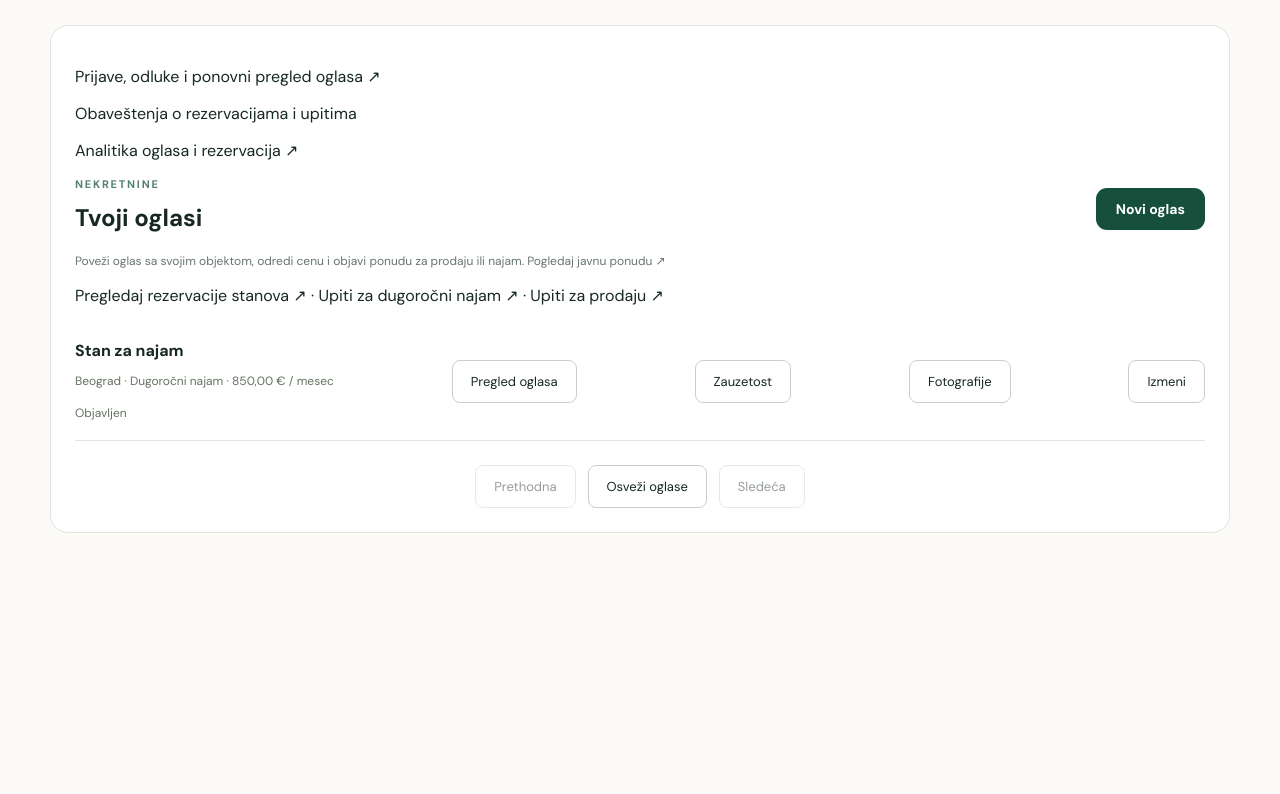
it: opens photo management without submitting the form and explains first-save uploads
Step 1. Click the button with aria-label "Izmeni: Stan za najam" → (1167, 381), box [1128,360,1205,402]
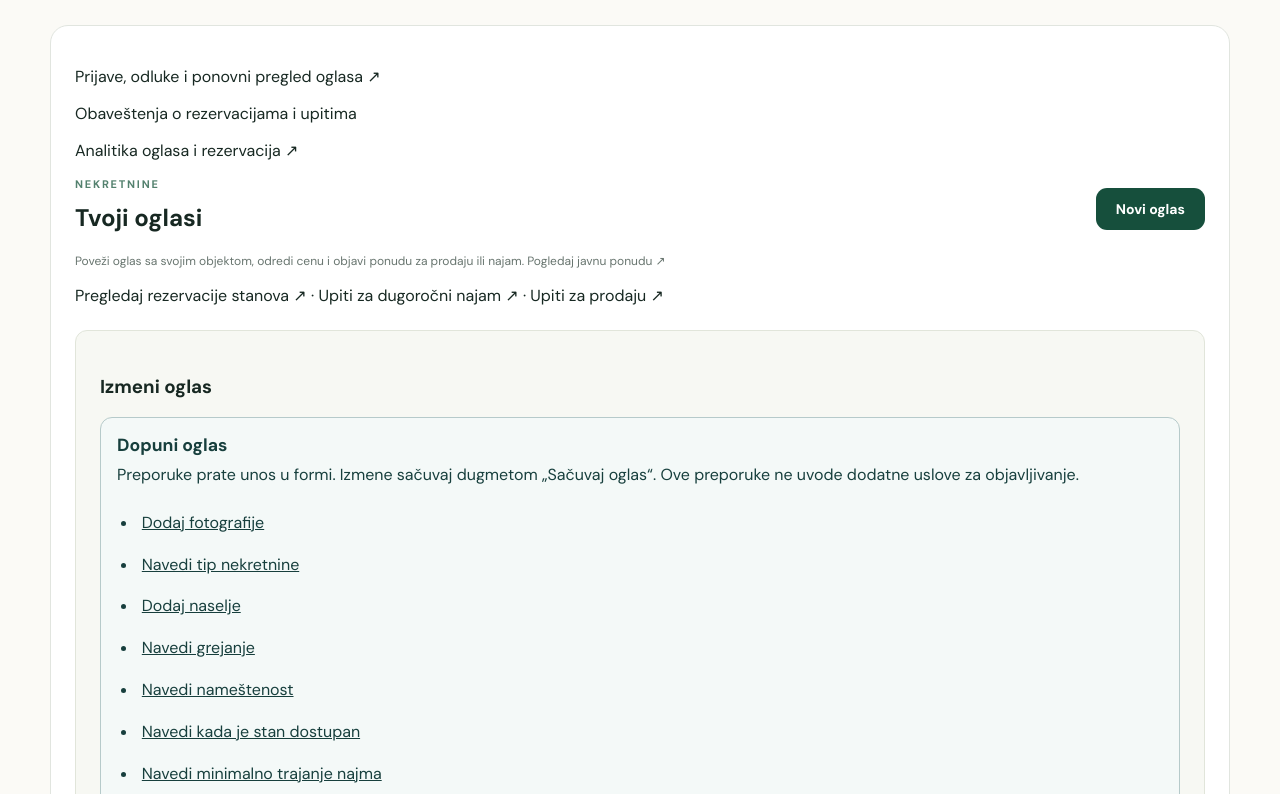
Step 2. Click the button "Dodaj fotografije" → (203, 522), box [138,501,268,543]
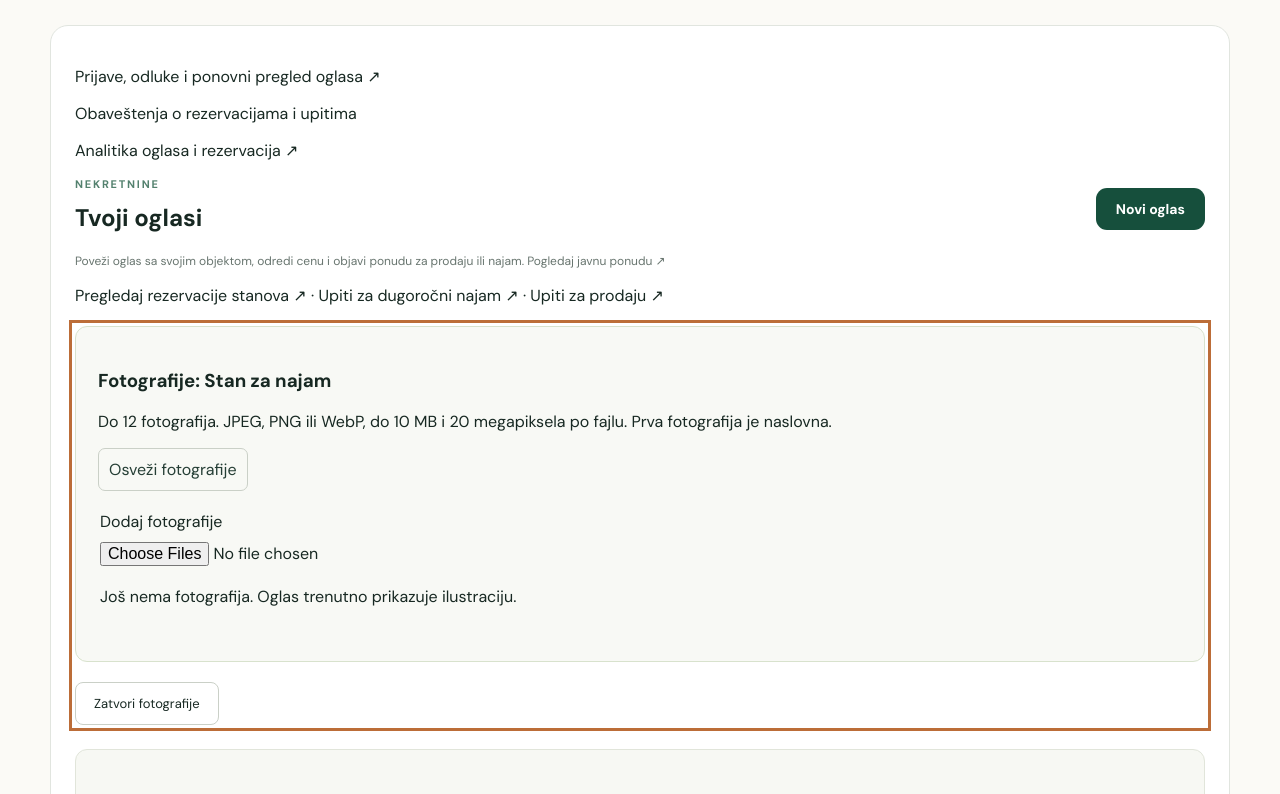
Check: the element "Fotografije: Stan za najam" is shown, box [75,326,1205,662]
Step 3. Click the button "Novi oglas" → (1150, 209), box [1096,188,1205,230]
(page scrolled)
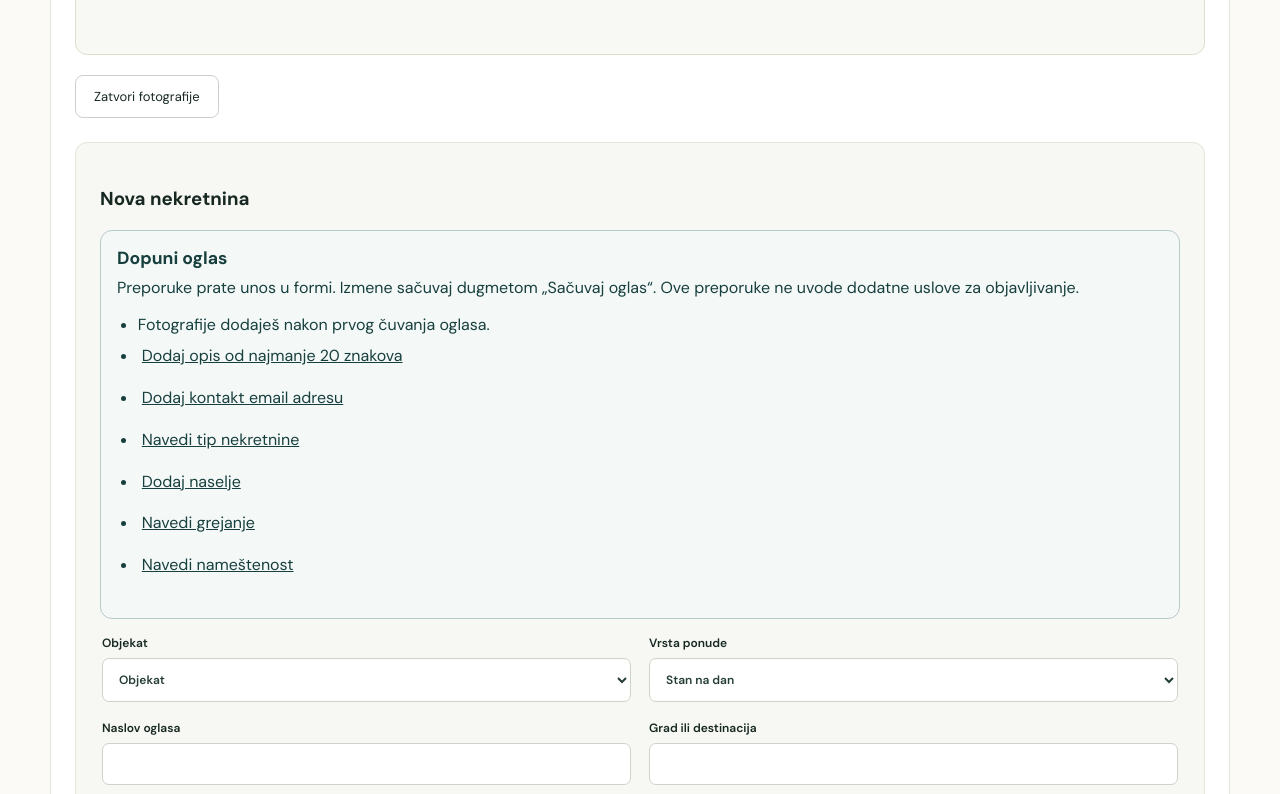
Check: the list item "Fotografije dodaješ nakon prvog čuvanja oglasa." is shown, box [138,314,490,335]
Check: the button "Dodaj kontakt email adresu" is shown, box [138,377,347,418]
